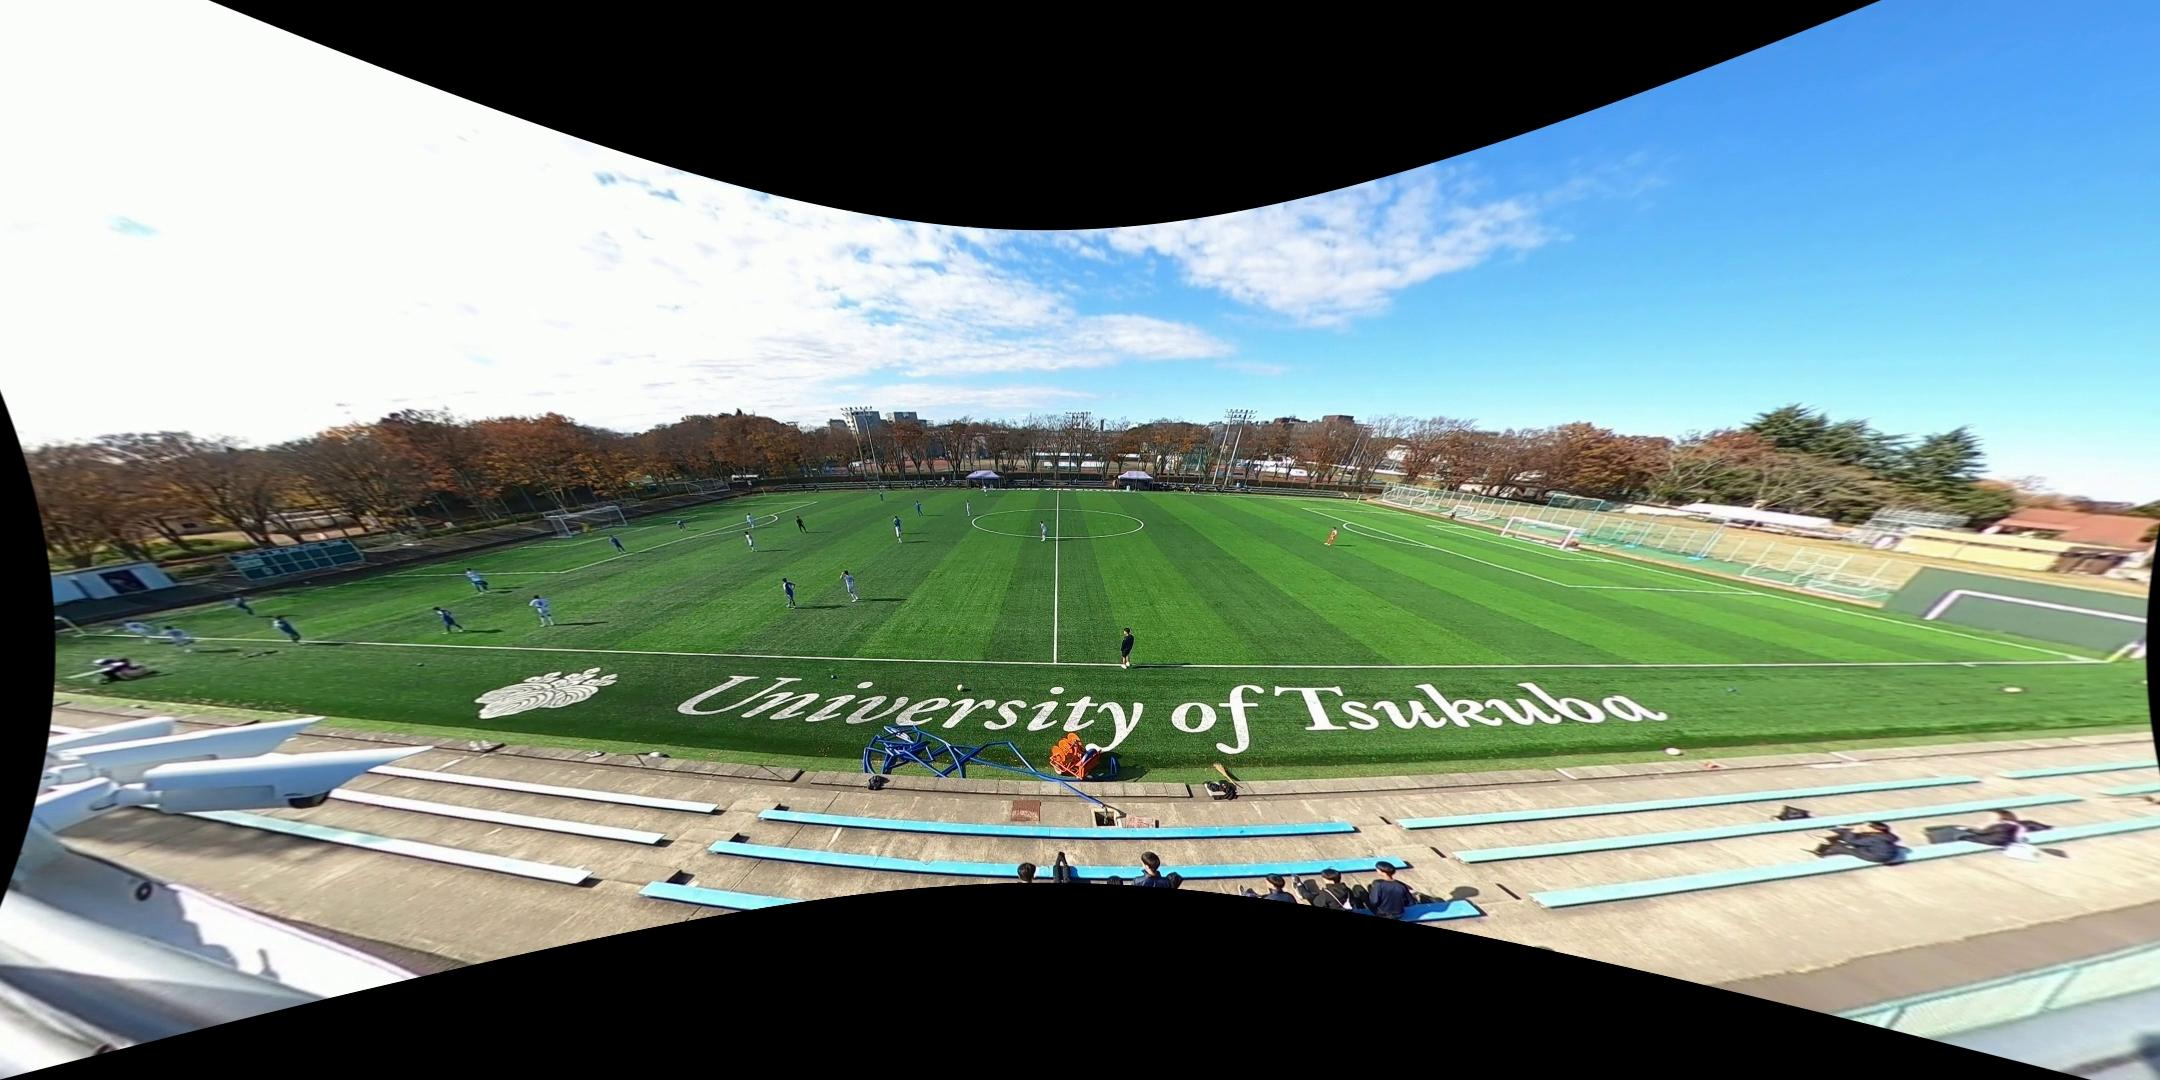person: (432, 607, 468, 637), (160, 625, 199, 652), (124, 620, 153, 649), (529, 593, 554, 626), (274, 615, 300, 643), (1118, 628, 1136, 668), (466, 567, 488, 593), (781, 576, 798, 609), (234, 593, 255, 617), (841, 570, 857, 601), (607, 532, 625, 555), (1323, 526, 1338, 547), (469, 579, 490, 593), (794, 514, 808, 535), (744, 532, 757, 552), (892, 515, 903, 533), (893, 525, 904, 543), (1039, 519, 1047, 542), (580, 521, 592, 536), (913, 501, 924, 517), (746, 513, 755, 529), (676, 518, 685, 532), (965, 499, 971, 518), (982, 484, 988, 497), (879, 491, 883, 502)
sports ball: (957, 684, 964, 692)
